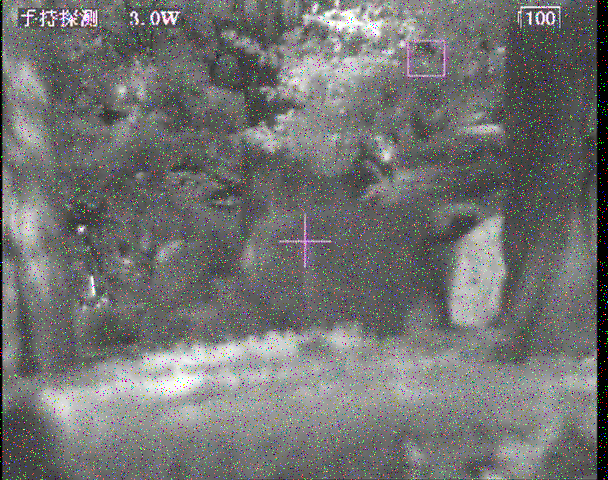my: (77, 225, 86, 235)
